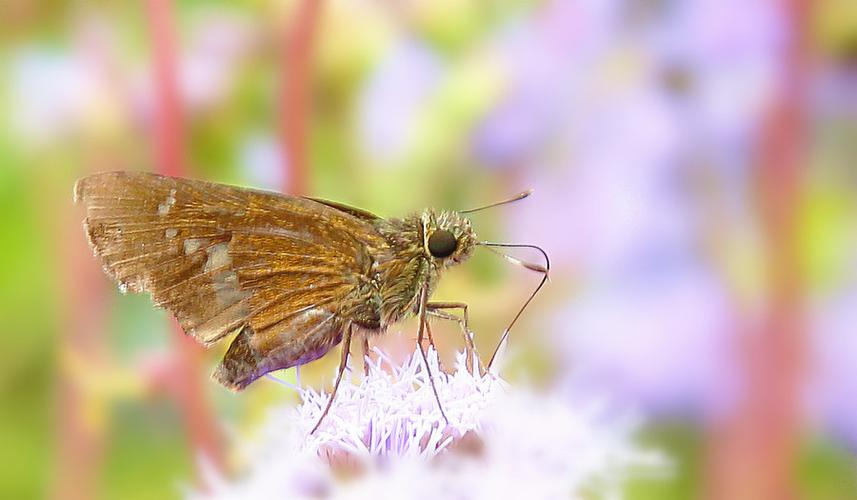Hesperiidae: (72, 167, 556, 437)
